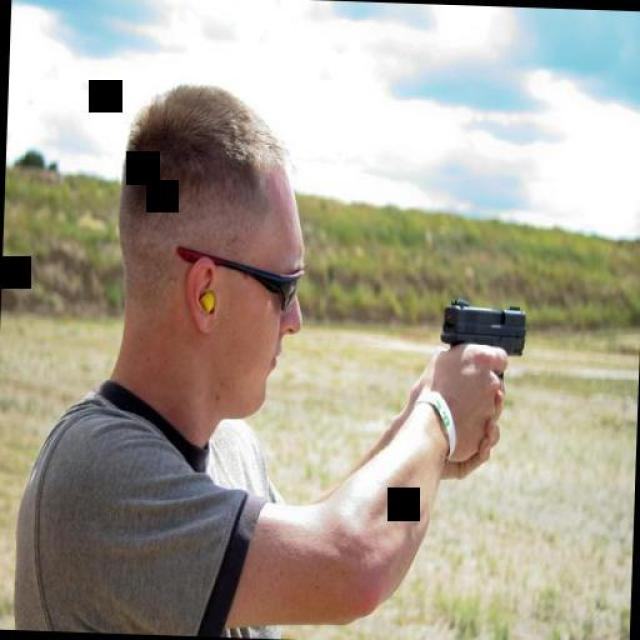gun: (437, 284, 525, 408)
